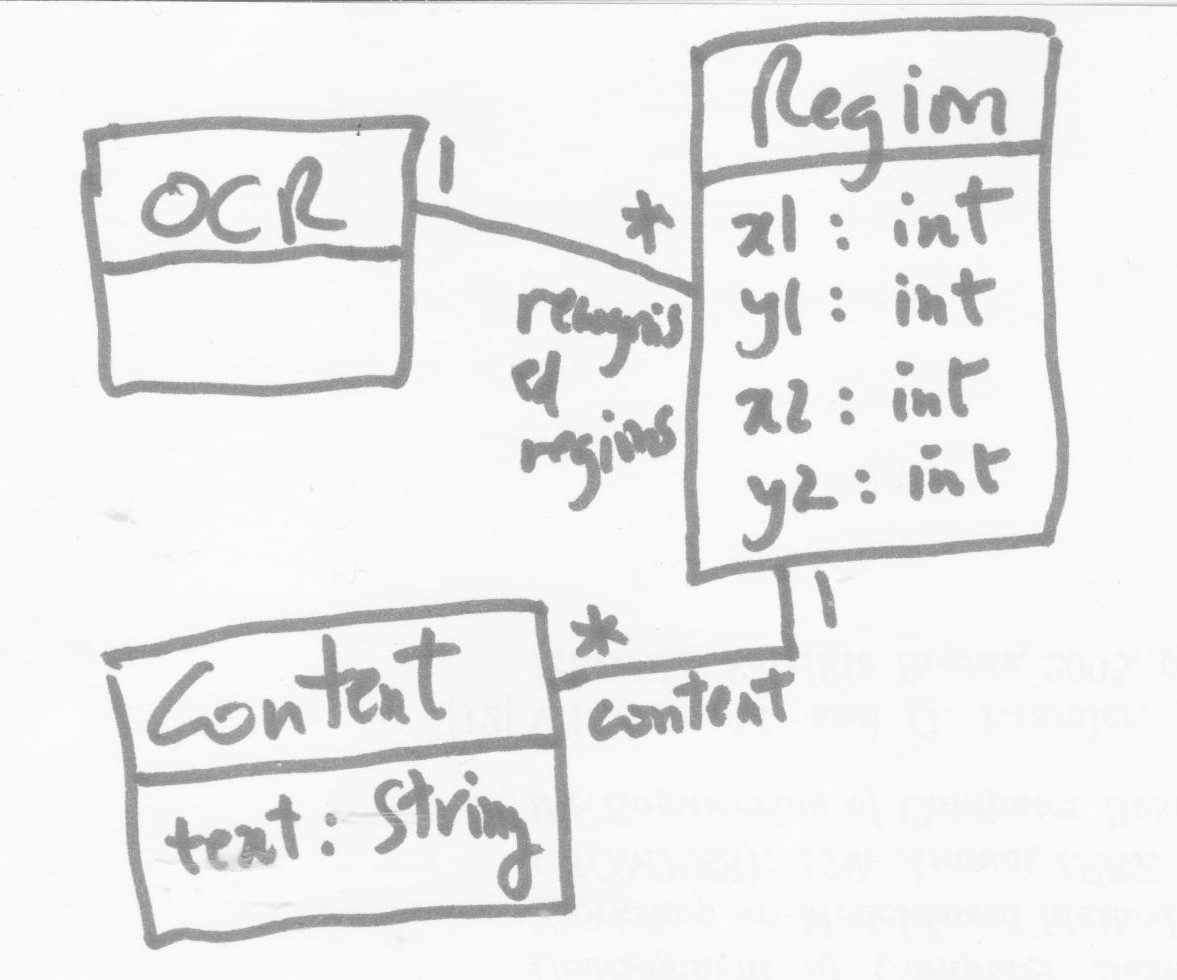association: (416, 125, 699, 520), (553, 563, 855, 746)
class attributes: (688, 13, 1075, 588), (97, 594, 582, 954), (79, 114, 430, 396)
